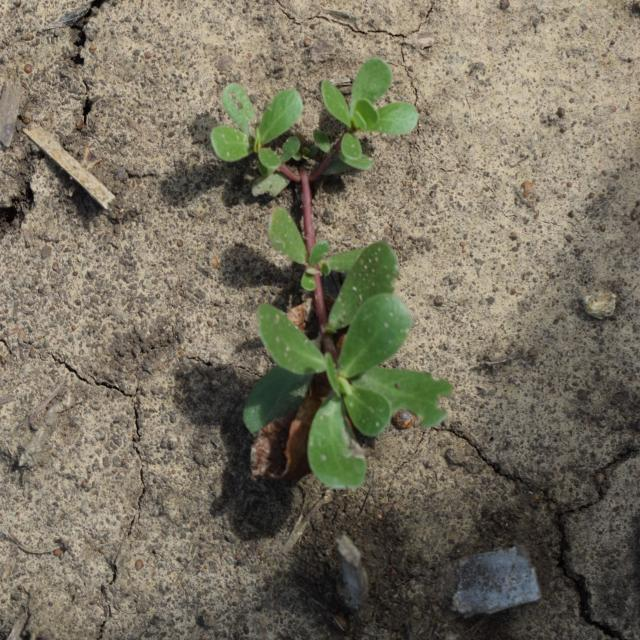Purslane: (210, 57, 453, 490)
